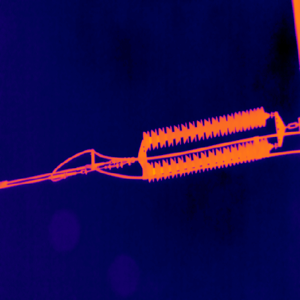insulator: (141, 104, 276, 182)
